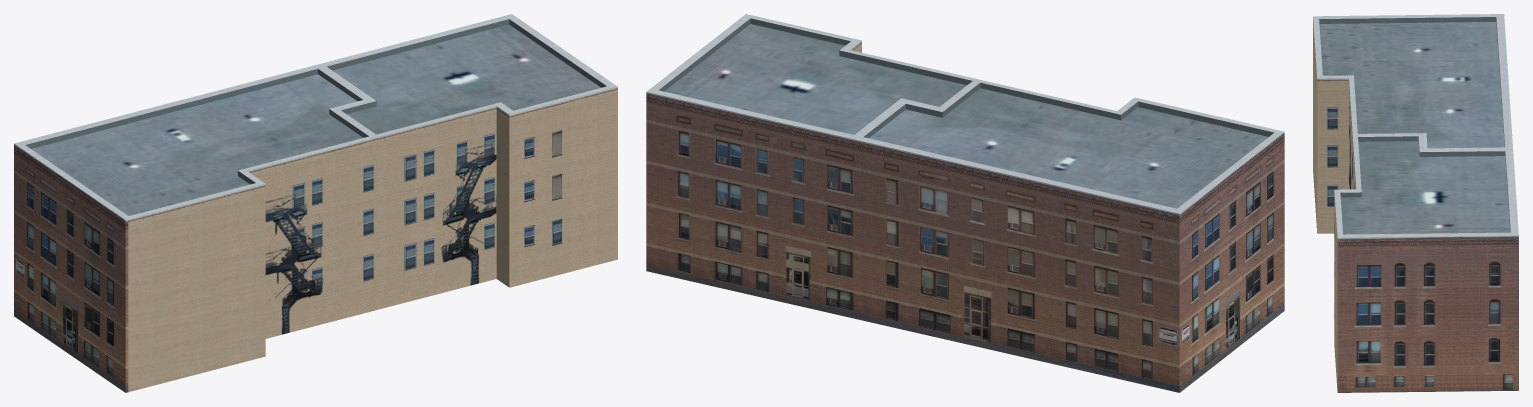
File: apartment.dae
The picture shows the model from 3 angles, left to right: view 1: azimuth 30°, elevation 25°; view 2: azimuth 150°, elevation 25°; view 3: azimuth 270°, elevation 25°; orthographic projection. The views are drawn at different scales.
Visible parts, largest first — view 1: Component_1 (×12); view 2: Component_1 (×8); view 3: Component_1 (×10).
Part boxes in pixels (left/top/right/bottom): Component_1 (×12): left=14, top=14, right=617, bottom=392; Component_1 (×8): left=646, top=14, right=1284, bottom=392; Component_1 (×10): left=1313, top=14, right=1518, bottom=392.
Size of the model in its own units: 1692 by 658 by 547.
10 materials, 10 textured.
